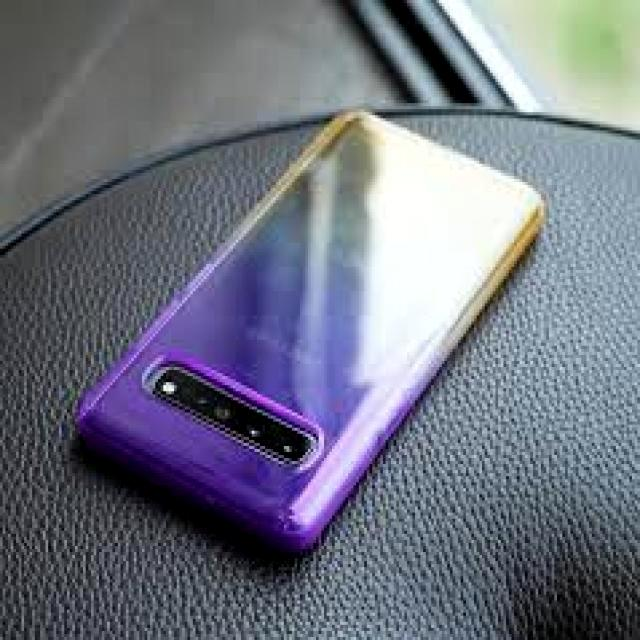lens_back: (154, 376, 301, 449)
phone: (70, 81, 555, 579)
